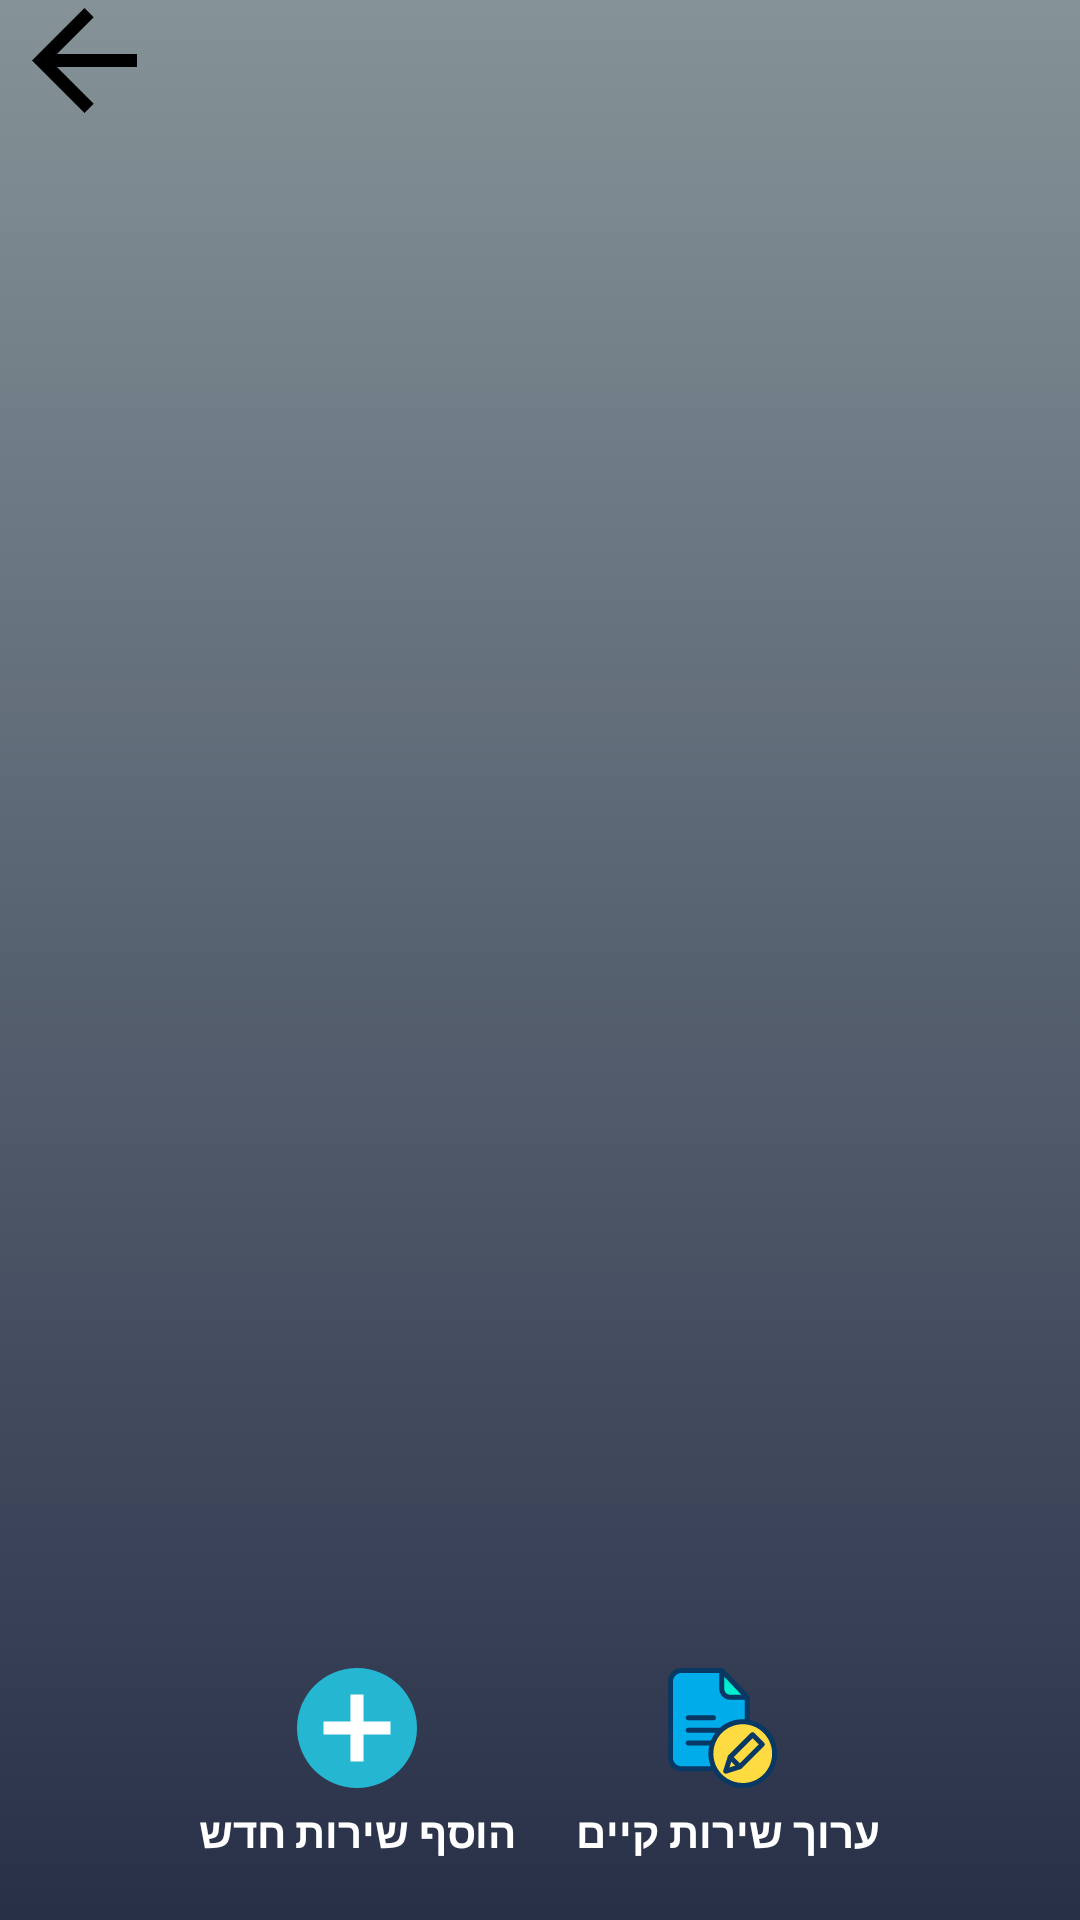

Icon click points for this 1080w x 1920h phone screenshot, format [x,y]:
add: [357,1728]
edit file: [722,1728]
